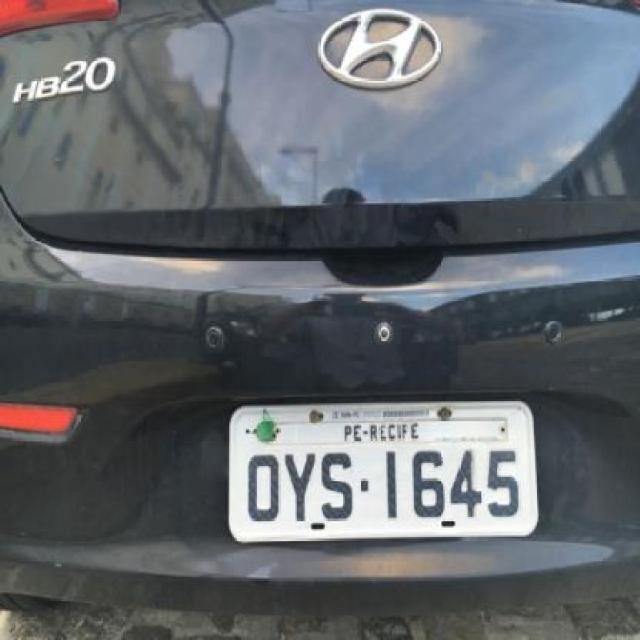old_plate: (220, 394, 547, 550)
